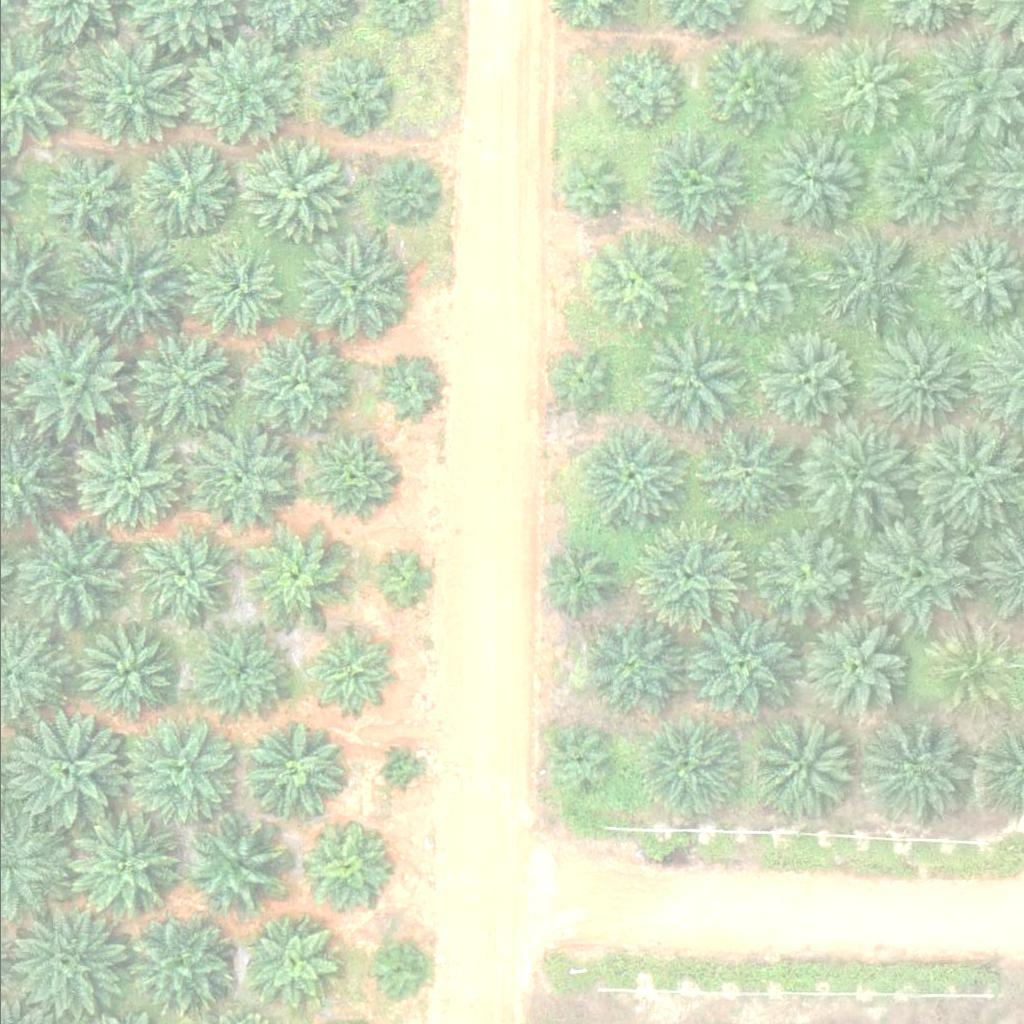Kelapa_Sawit: (63, 32, 189, 157), (72, 223, 198, 348), (3, 323, 129, 448), (61, 419, 186, 544), (858, 520, 972, 633), (63, 809, 177, 922), (122, 909, 236, 1022), (686, 609, 799, 722), (183, 35, 296, 148), (625, 522, 738, 634), (860, 717, 973, 829), (793, 417, 906, 529), (129, 715, 242, 827), (580, 616, 681, 716), (689, 425, 790, 525), (582, 429, 683, 529), (866, 331, 967, 431), (753, 332, 854, 432), (644, 332, 745, 432), (821, 231, 922, 331), (695, 233, 796, 333), (583, 233, 684, 333), (871, 139, 972, 239), (763, 133, 864, 233), (641, 134, 742, 234), (814, 40, 915, 140), (697, 39, 798, 139), (245, 140, 346, 240), (130, 139, 231, 239), (304, 242, 405, 342), (183, 236, 284, 336), (247, 333, 348, 433), (135, 333, 236, 433), (190, 428, 291, 528), (243, 530, 344, 630), (128, 525, 229, 625), (14, 526, 115, 626), (191, 622, 292, 722), (75, 624, 176, 724), (753, 714, 853, 814), (639, 719, 739, 819), (800, 620, 900, 720), (750, 526, 850, 626), (35, 146, 135, 246), (247, 722, 347, 822), (189, 817, 289, 917), (922, 625, 1010, 713), (596, 45, 684, 133), (304, 627, 392, 715), (249, 920, 337, 1008), (932, 233, 1020, 320), (307, 439, 395, 526), (295, 826, 383, 913), (541, 725, 617, 800), (549, 151, 625, 226), (315, 59, 390, 134), (536, 543, 611, 618), (542, 347, 617, 422), (373, 160, 436, 223), (375, 360, 438, 422), (374, 546, 437, 608), (362, 941, 425, 1003), (379, 753, 417, 790)
